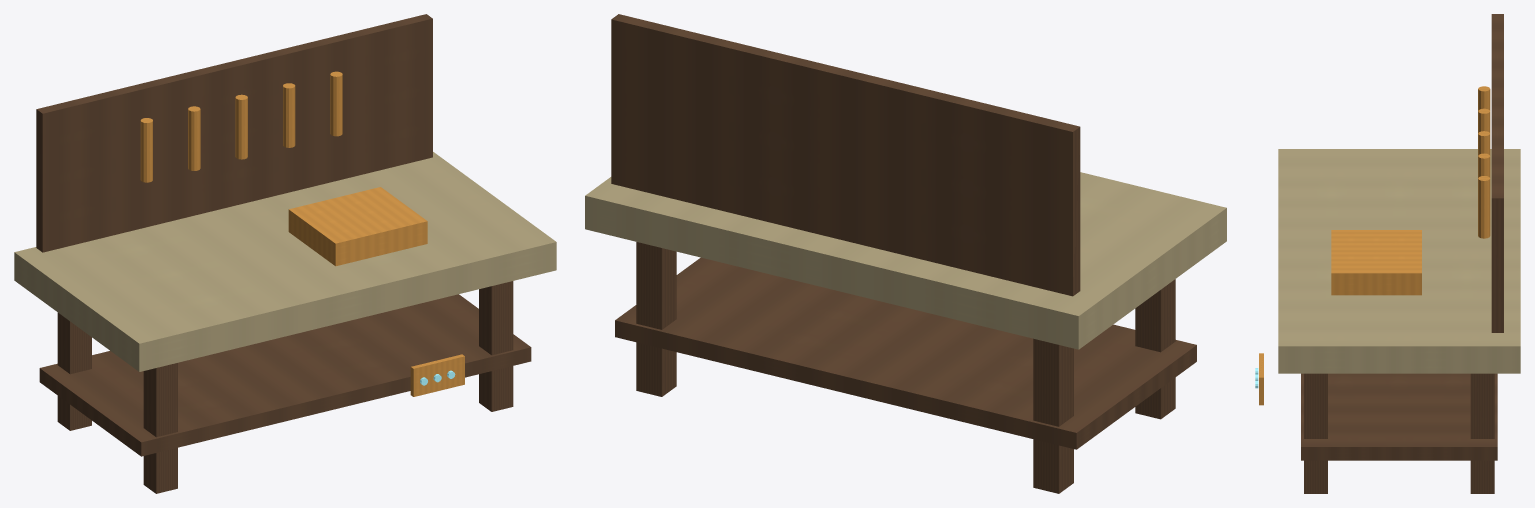
Rendered from atlas100-s018-a06.glb.
The picture shows the model from 3 angles, left to right: view 1: azimuth 30°, elevation 25°; view 2: azimuth 150°, elevation 25°; view 3: azimuth 270°, elevation 25°; orthographic projection. The views are drawn at different scales.
Parts seen in each view (by area): view 1: atlas100-s018-a06:part-004, atlas100-s018-a06:part-006, atlas100-s018-a06:part-005, atlas100-s018-a06:part-012, atlas100-s018-a06:part-003, atlas100-s018-a06:part-001, atlas100-s018-a06:part-000, atlas100-s018-a06:part-013, atlas100-s018-a06:part-011, atlas100-s018-a06:part-009, atlas100-s018-a06:part-010, atlas100-s018-a06:part-008 (+1 smaller); view 2: atlas100-s018-a06:part-006, atlas100-s018-a06:part-005, atlas100-s018-a06:part-004, atlas100-s018-a06:part-000, atlas100-s018-a06:part-002, atlas100-s018-a06:part-001; view 3: atlas100-s018-a06:part-004, atlas100-s018-a06:part-005, atlas100-s018-a06:part-012, atlas100-s018-a06:part-006, atlas100-s018-a06:part-002, atlas100-s018-a06:part-003, atlas100-s018-a06:part-011, atlas100-s018-a06:part-008, atlas100-s018-a06:part-007, atlas100-s018-a06:part-010.
Boxes of the visible parts, x1,y1,x2,y2 form: atlas100-s018-a06:part-004: (14, 152, 556, 371); atlas100-s018-a06:part-006: (36, 14, 432, 252); atlas100-s018-a06:part-005: (39, 294, 531, 456); atlas100-s018-a06:part-012: (288, 187, 427, 266); atlas100-s018-a06:part-003: (479, 281, 513, 411); atlas100-s018-a06:part-001: (143, 363, 177, 493); atlas100-s018-a06:part-000: (57, 312, 91, 430); atlas100-s018-a06:part-013: (410, 354, 464, 396); atlas100-s018-a06:part-011: (330, 71, 342, 136); atlas100-s018-a06:part-009: (235, 94, 247, 159); atlas100-s018-a06:part-010: (283, 83, 295, 147); atlas100-s018-a06:part-008: (188, 106, 200, 170); atlas100-s018-a06:part-006: (611, 14, 1080, 296); atlas100-s018-a06:part-005: (615, 257, 1196, 449); atlas100-s018-a06:part-004: (585, 172, 1226, 349); atlas100-s018-a06:part-000: (1033, 338, 1073, 493); atlas100-s018-a06:part-002: (636, 242, 676, 396); atlas100-s018-a06:part-001: (1135, 279, 1175, 419); atlas100-s018-a06:part-004: (1278, 149, 1520, 373); atlas100-s018-a06:part-005: (1301, 373, 1497, 460); atlas100-s018-a06:part-012: (1331, 230, 1421, 295); atlas100-s018-a06:part-006: (1491, 14, 1503, 332); atlas100-s018-a06:part-002: (1470, 373, 1494, 493); atlas100-s018-a06:part-003: (1304, 373, 1327, 493); atlas100-s018-a06:part-011: (1478, 176, 1490, 238); atlas100-s018-a06:part-008: (1478, 108, 1490, 133); atlas100-s018-a06:part-007: (1478, 86, 1490, 110); atlas100-s018-a06:part-010: (1478, 153, 1490, 177).
Bounding box in the file's own units: 3.08 × 2.21 × 1.75.
4 materials, 4 textured.
